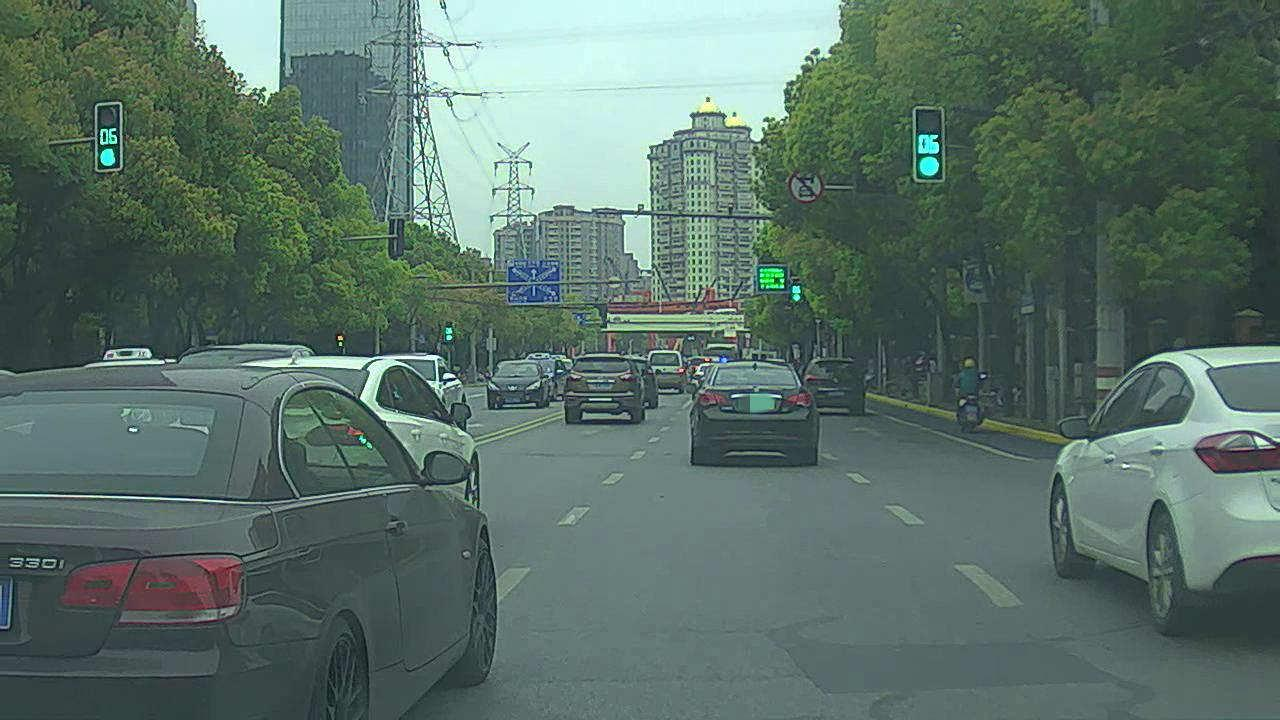traffic_light: (916, 107, 950, 186), (93, 99, 127, 172)
